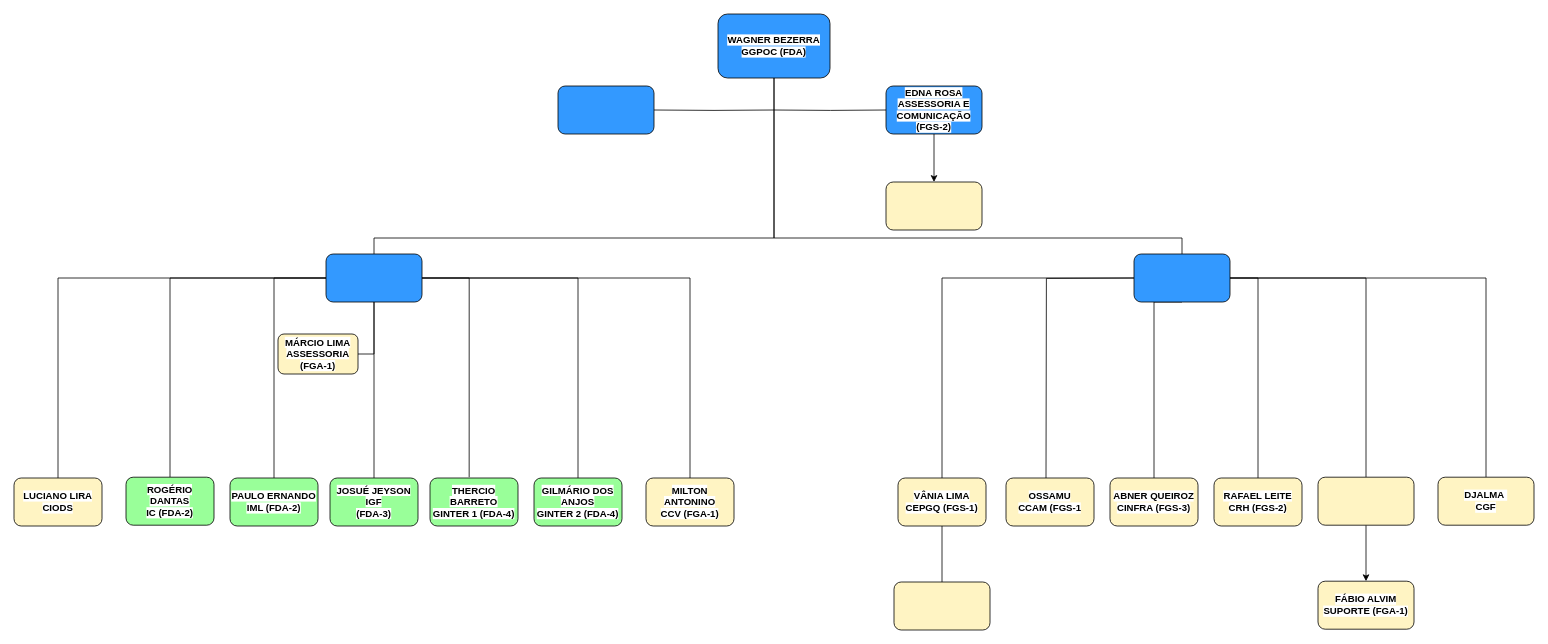
Some shapes in this 1548 by 644 pixel diagram are drawn without their labels. Here are the shapes that lost their labels. From the top down, the box of each, then its label:
(557, 85, 654, 134): LUIZA SANTOS CAJ (FGA-1)
(885, 181, 982, 230): DIMAS GUERRA (FGA-1) PROTOCOLO
(325, 253, 422, 302): FERNANDA PORTO DIPOC(FDA-1)
(1133, 253, 1230, 302): DIPLAG
(1317, 476, 1414, 525): EDUARDO FERREIRA CTI (FGA-1)
(893, 581, 990, 630): DANIELA TAVARES (FGA-1) ASSESSORIA
